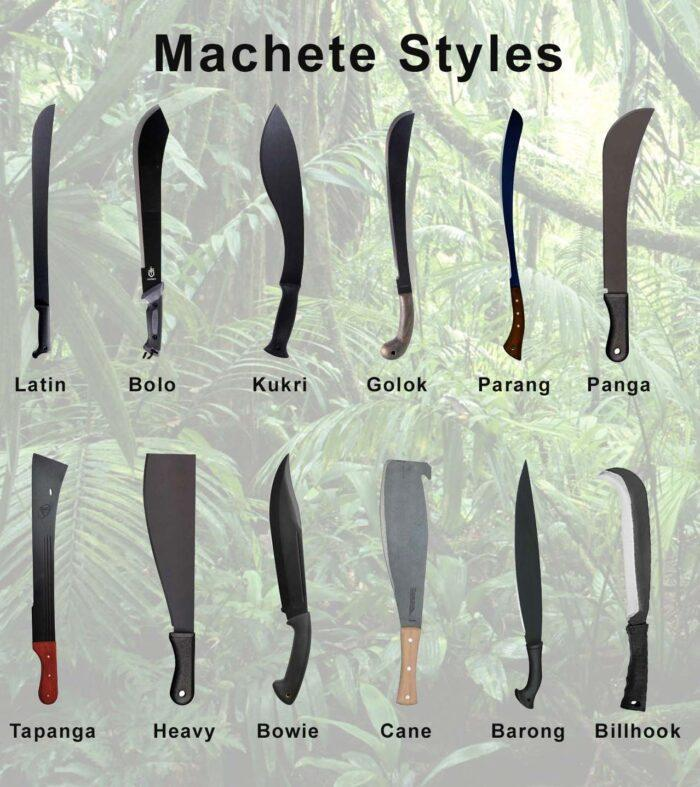facao: (358, 429, 446, 700), (142, 435, 218, 709), (596, 436, 666, 725), (494, 448, 562, 712), (244, 101, 309, 355), (369, 108, 435, 356), (260, 454, 325, 704), (605, 104, 666, 362), (134, 92, 192, 358), (24, 89, 79, 359), (35, 458, 86, 712), (492, 103, 532, 364)
